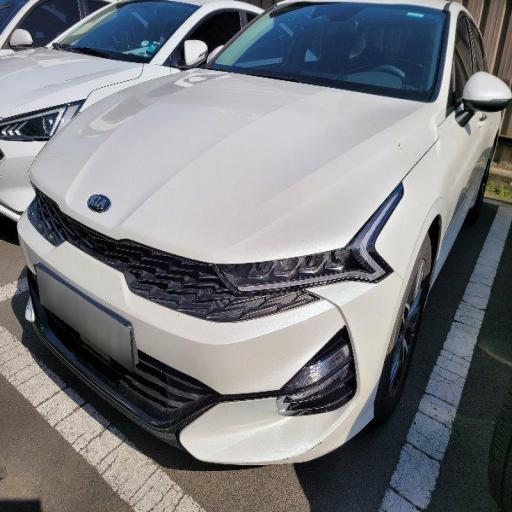dent: (40, 83, 400, 390)
